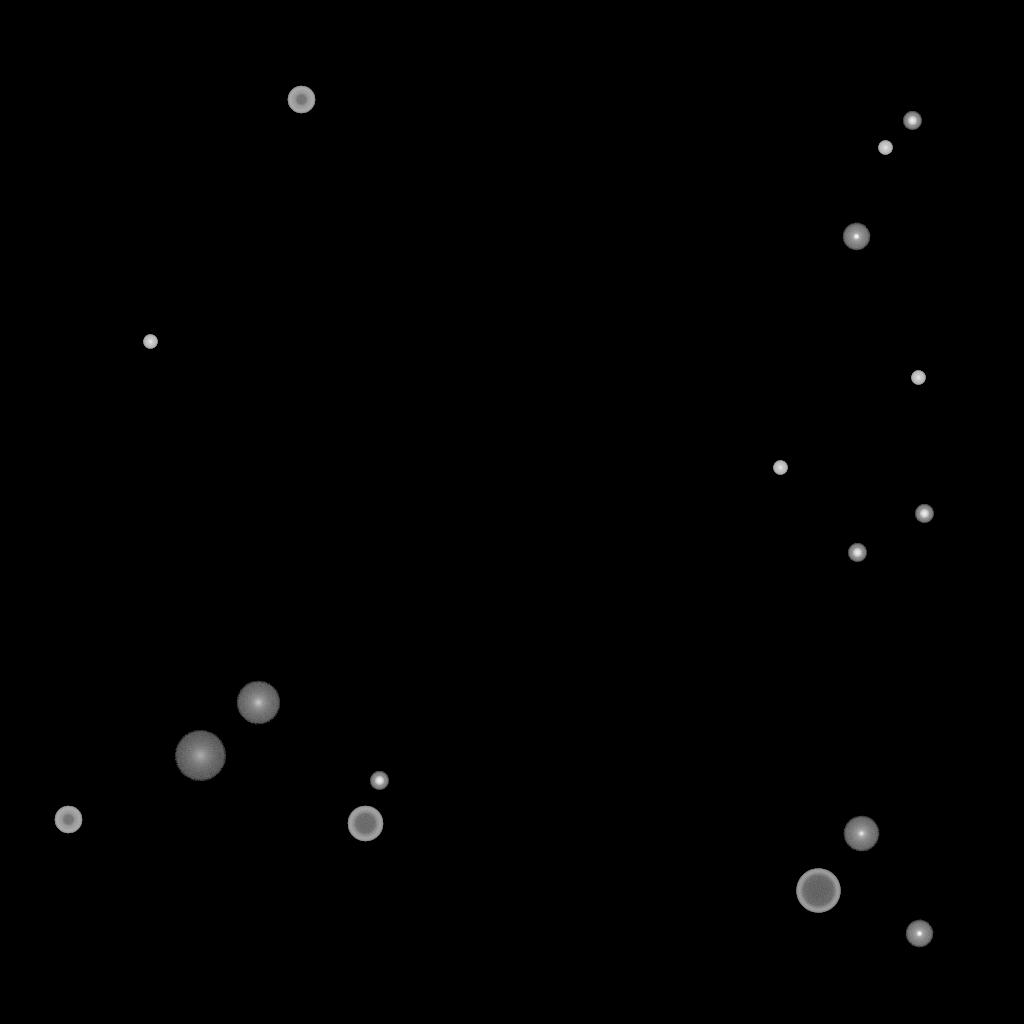depth:-10: (842, 223, 870, 251), (905, 920, 933, 948)
depth:-20: (915, 505, 933, 523), (370, 772, 388, 790), (903, 112, 921, 130), (848, 544, 866, 562)
depth:-30: (773, 461, 787, 475), (911, 371, 925, 385), (878, 141, 892, 155), (143, 335, 157, 349)
depth:-50: (287, 86, 315, 114), (54, 806, 82, 834)
depth:-60: (347, 806, 383, 842)
depth:-70: (796, 869, 840, 913)
depth:0: (843, 816, 879, 852)
depth:10: (236, 681, 280, 725)
depth:20: (174, 731, 226, 781)
